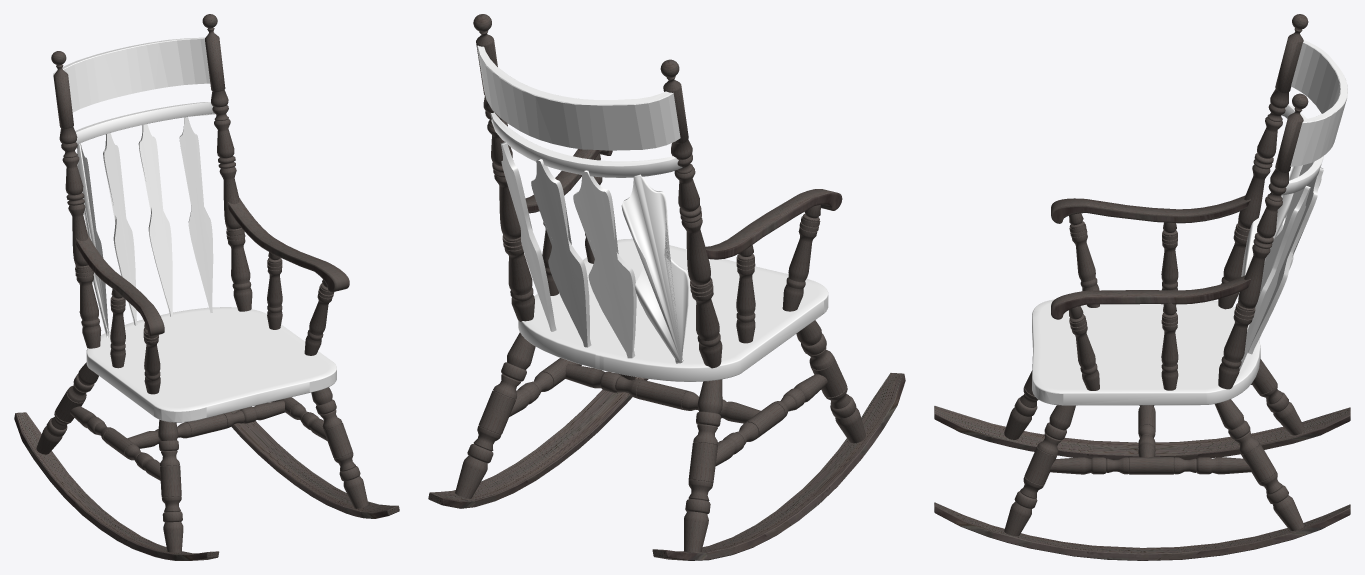
The model's file is RockingChair2.fbx.
The picture shows the model from 3 angles, left to right: view 1: azimuth 30°, elevation 25°; view 2: azimuth 150°, elevation 25°; view 3: azimuth 270°, elevation 25°; orthographic projection. The views are drawn at different scales.
Parts seen in each view (by area): view 1: Seat_2, Empty, L_Base, Top_Arc, R_Back_Support, L_Back_Support, L_Front_Leg, R_Front_Leg, R_Arm_rest, Middle_support, L_Armrest, Lower_Arc (+8 smaller); view 2: Empty, Seat_2, L_Base, Top_Arc, L_Back_Support, R_Back_Support, L_BackLeg, R_Back_Leg, Middle_support, Lower_Arc, L_Front_Leg, L_Armrest (+5 smaller); view 3: Seat_2, L_Base, R_Back_Support, Empty, L_Back_Support, Top_Arc, R_Support_Across, R_Back_Leg, L_Armrest, R_Arm_rest, R_Front_Leg, L_BackLeg (+7 smaller).
Boxes of the visible parts, x1,y1,x2,y2 form: Seat_2: [86, 307, 336, 422]; Empty: [77, 117, 213, 337]; L_Base: [14, 409, 399, 560]; Top_Arc: [53, 37, 210, 112]; R_Back_Support: [202, 14, 252, 311]; L_Back_Support: [51, 51, 101, 348]; L_Front_Leg: [158, 419, 183, 552]; R_Front_Leg: [311, 387, 368, 508]; R_Arm_rest: [227, 198, 349, 291]; Middle_support: [127, 400, 284, 448]; L_Armrest: [75, 235, 164, 336]; Lower_Arc: [75, 102, 215, 144]; Empty: [501, 141, 689, 363]; Seat_2: [518, 238, 828, 381]; L_Base: [428, 373, 905, 560]; Top_Arc: [477, 45, 680, 150]; L_Back_Support: [660, 59, 722, 368]; R_Back_Support: [473, 14, 534, 321]; L_BackLeg: [684, 379, 722, 552]; R_Back_Leg: [455, 332, 535, 498]; Middle_support: [565, 364, 760, 423]; Lower_Arc: [490, 112, 682, 177]; L_Front_Leg: [796, 320, 865, 443]; L_Armrest: [705, 189, 842, 259]; Seat_2: [1032, 299, 1260, 405]; L_Base: [934, 406, 1350, 560]; R_Back_Support: [1218, 93, 1308, 389]; Empty: [1239, 162, 1323, 370]; L_Back_Support: [1218, 14, 1308, 309]; Top_Arc: [1290, 40, 1347, 166]; R_Support_Across: [1050, 457, 1251, 474]; R_Back_Leg: [1214, 399, 1304, 530]; L_Armrest: [1051, 195, 1250, 223]; R_Arm_rest: [1051, 275, 1250, 319]; R_Front_Leg: [1004, 405, 1075, 536]; L_BackLeg: [1252, 359, 1304, 435].
Bounding box in the file's own units: 168 × 316 × 262.
